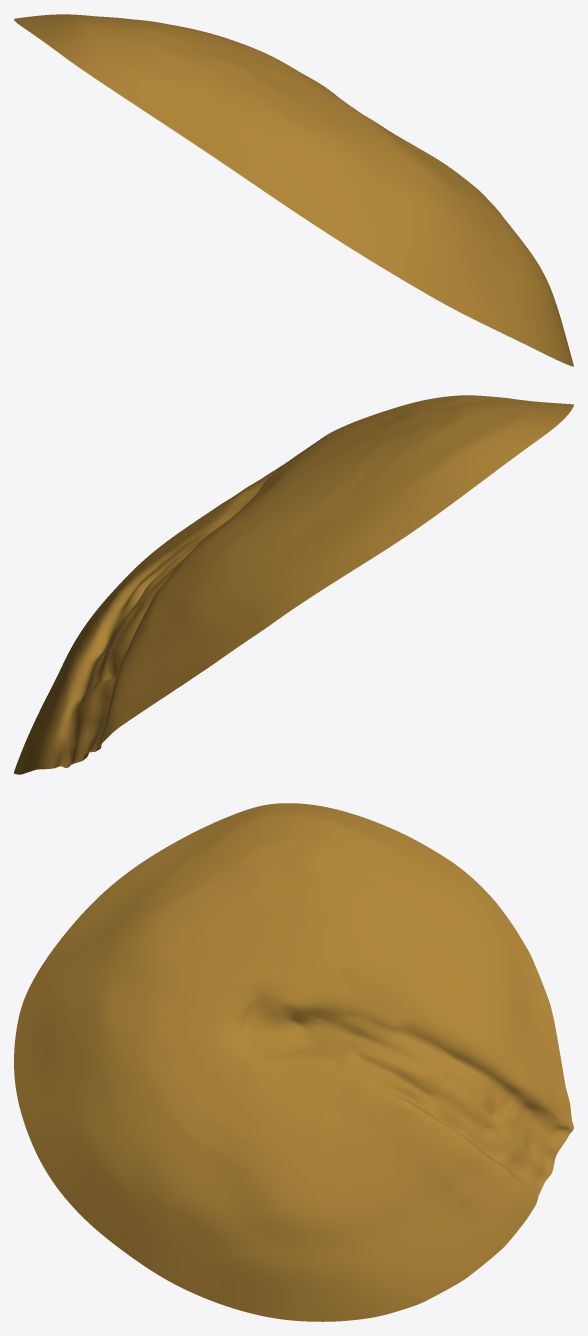
Rendered from İIsland002ddd.fbx.
3 views of the same model, one above another, from view 1: azimuth 30°, elevation 25°; view 2: azimuth 150°, elevation 25°; view 3: azimuth 270°, elevation 25° (orthographic). The views are drawn at different scales.
Parts seen in each view (by area): view 1: Sphere.002; view 2: Sphere.002; view 3: Sphere.002.
Boxes of the visible parts, x1,y1,x2,y2 form: Sphere.002: [14, 14, 573, 366]; Sphere.002: [14, 395, 573, 774]; Sphere.002: [14, 803, 573, 1321].
Size of the model in its own units: 1258 by 1016 by 1558.
